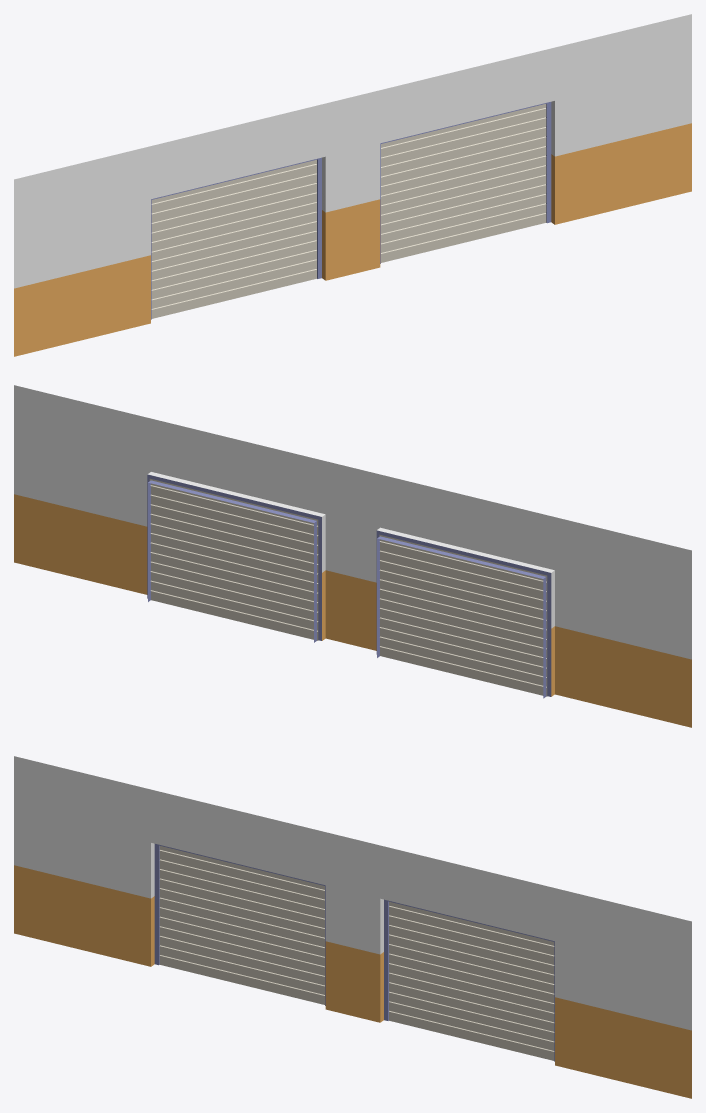
The model's file is wall_front.fbx.
3 renders of one model, top to bottom at view 1: azimuth 30°, elevation 25°; view 2: azimuth 150°, elevation 25°; view 3: azimuth 330°, elevation 25°, orthographic.
Parts seen in each view (by area): view 1: wall_front; view 2: wall_front; view 3: wall_front.
Part boxes in pixels (x1=…): wall_front: x1=14, y1=14, x2=691, y2=356; wall_front: x1=14, y1=385, x2=691, y2=727; wall_front: x1=14, y1=756, x2=691, y2=1098.
Size of the model in its own units: 2000 by 500 by 37.99.
